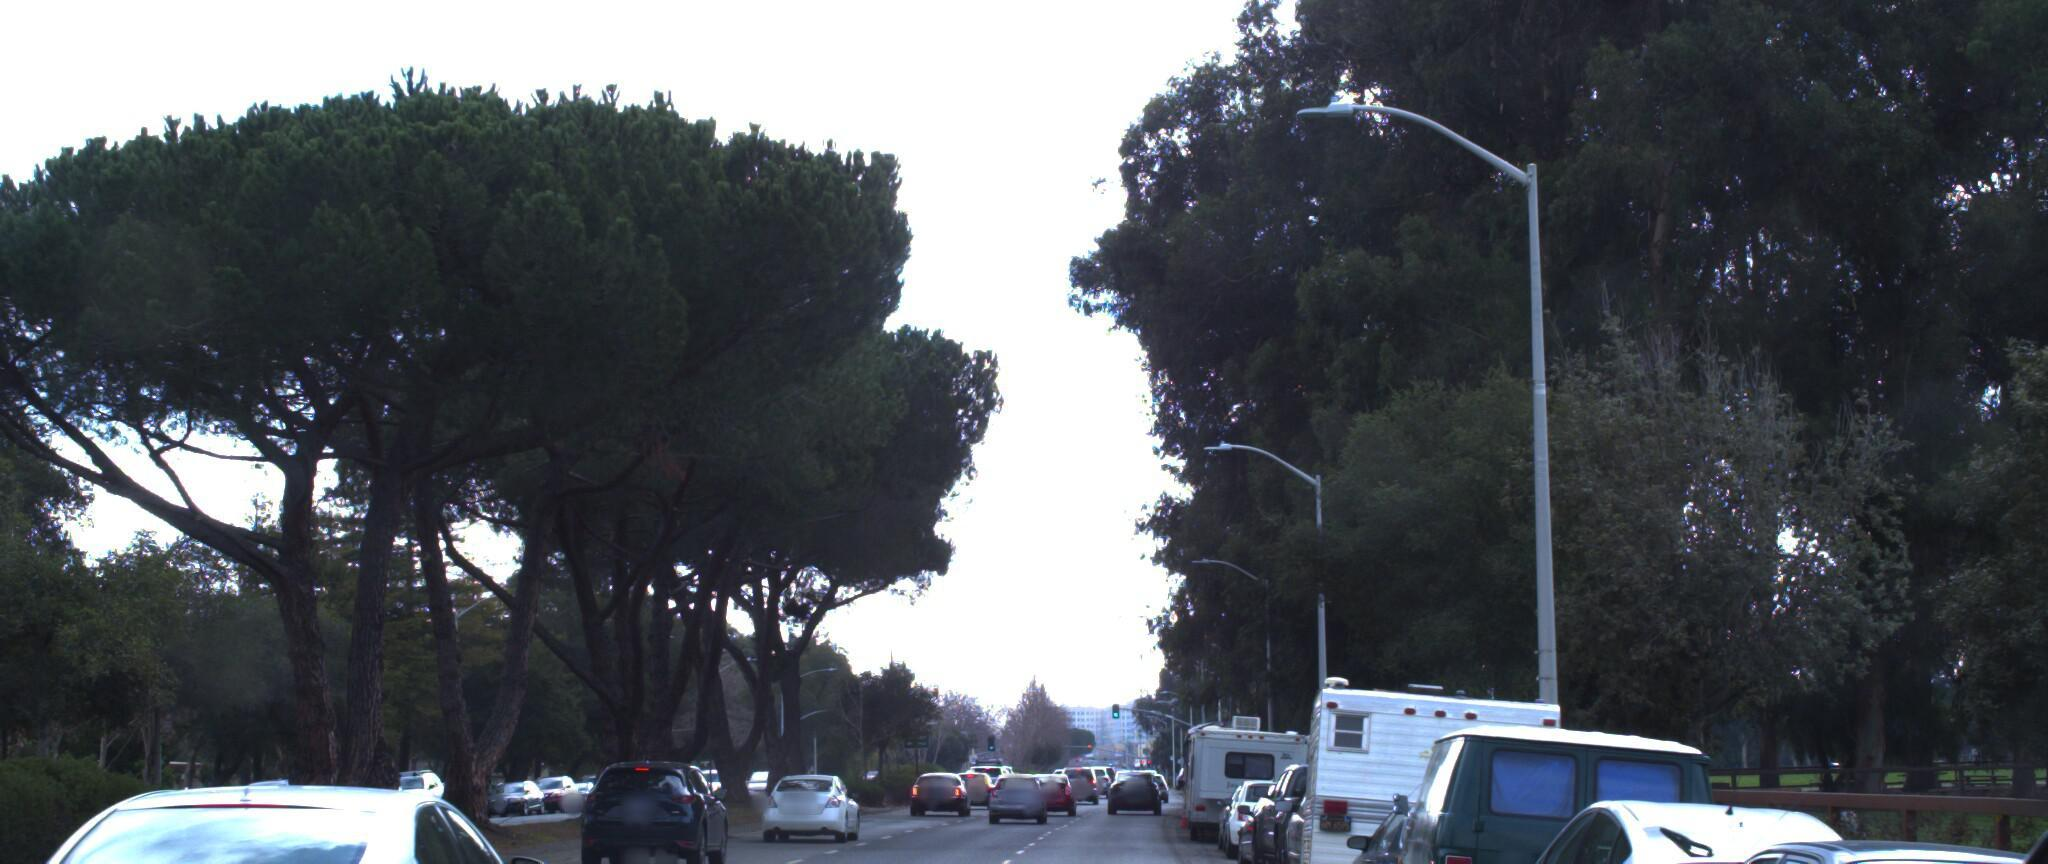car: (0, 754, 602, 864), (1352, 700, 1748, 864), (1445, 777, 1917, 864), (1778, 726, 2048, 864), (1546, 805, 2048, 864), (1311, 779, 1567, 864), (575, 743, 731, 863), (1230, 752, 1395, 864), (1256, 769, 1443, 864), (758, 754, 859, 835)
other_vehicle: (1264, 646, 1573, 864), (1159, 700, 1317, 844)
